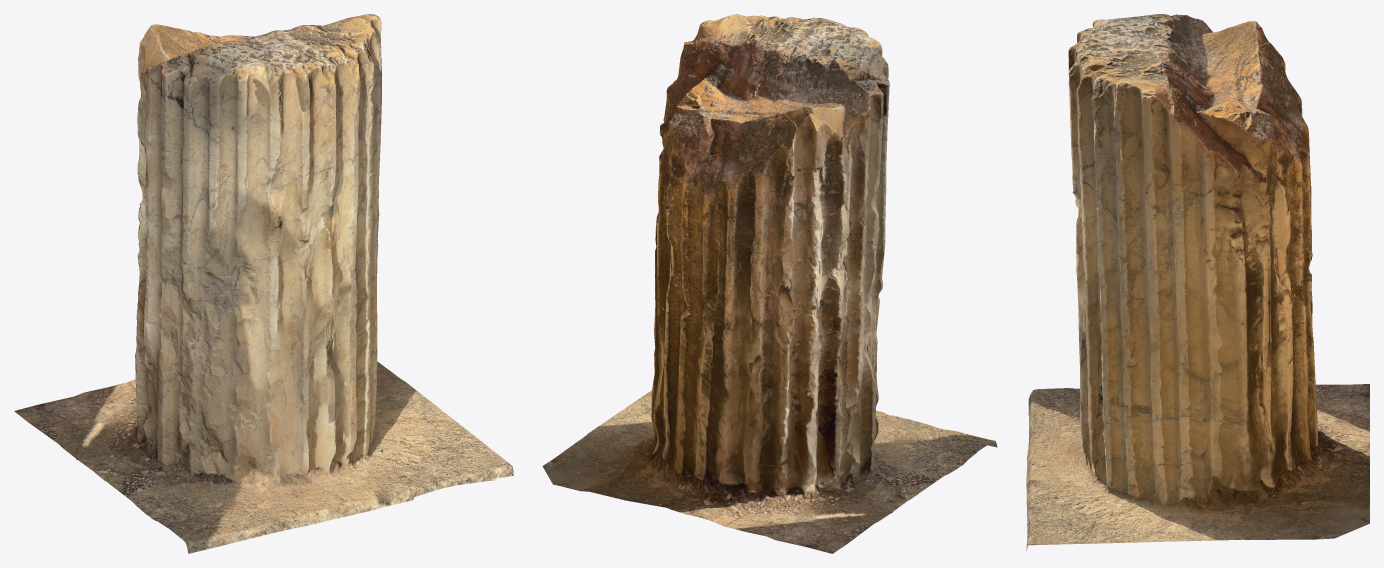
Rendered from fluted_column_fragment__byrsa_hill_cart_-_copy.glb.
3 renders of one model, left to right at view 1: azimuth 30°, elevation 25°; view 2: azimuth 150°, elevation 25°; view 3: azimuth 270°, elevation 25°, orthographic. The views are drawn at different scales.
Visible parts, largest first — view 1: Object_2; view 2: Object_2; view 3: Object_2.
Part boxes in pixels (x1=…): Object_2: x1=14, y1=14, x2=513, y2=553; Object_2: x1=542, y1=14, x2=997, y2=553; Object_2: x1=1026, y1=14, x2=1369, y2=552.
Bounding box in the file's own units: 0.7227 × 0.9309 × 0.6778.
Materials: 1 (1 with a texture image).
